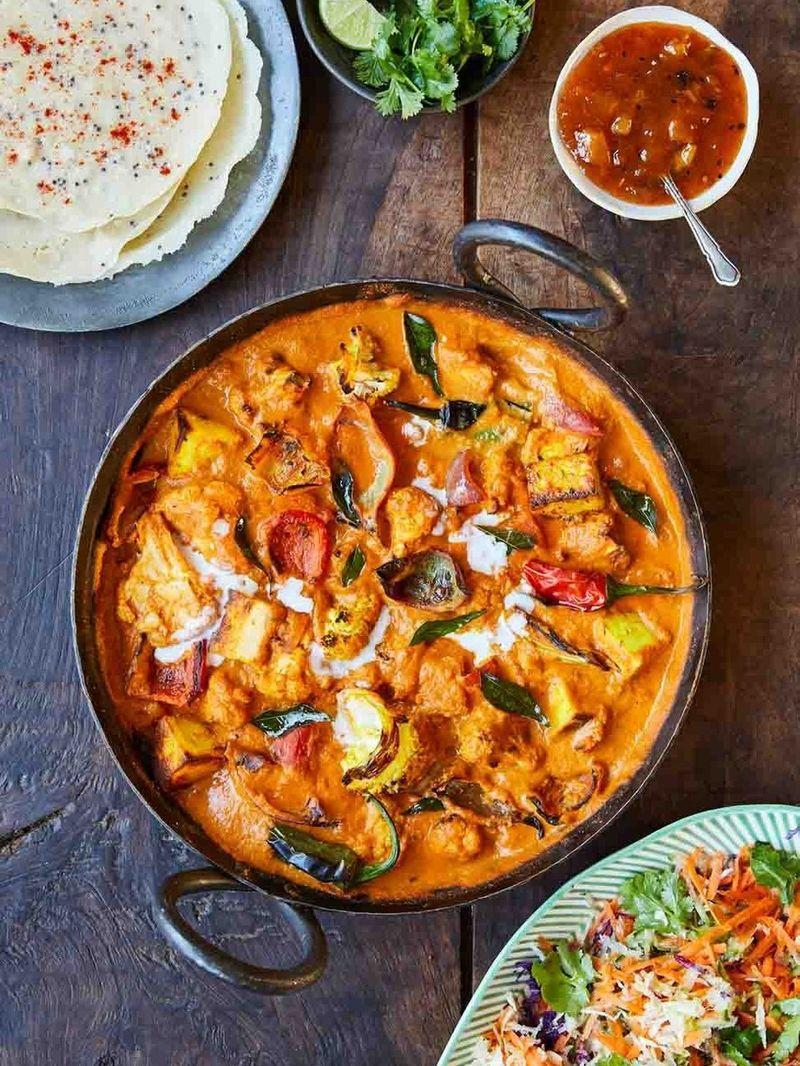paneer: (171, 404, 596, 803)
